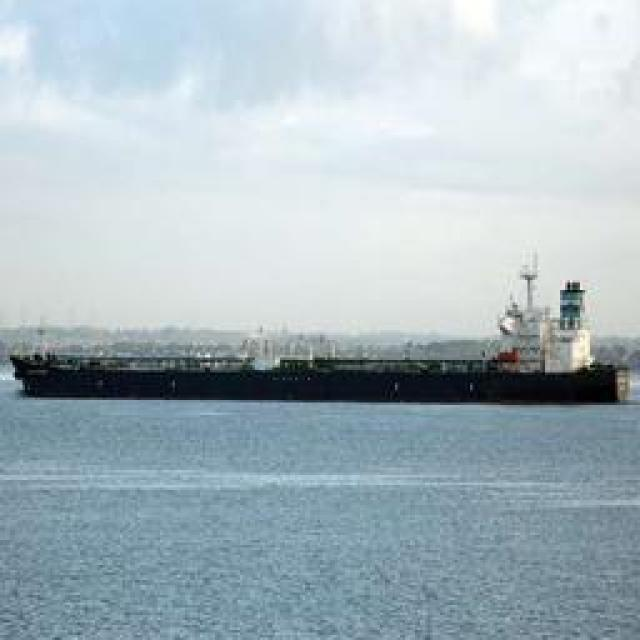CIV_Ship: (10, 341, 618, 404)
